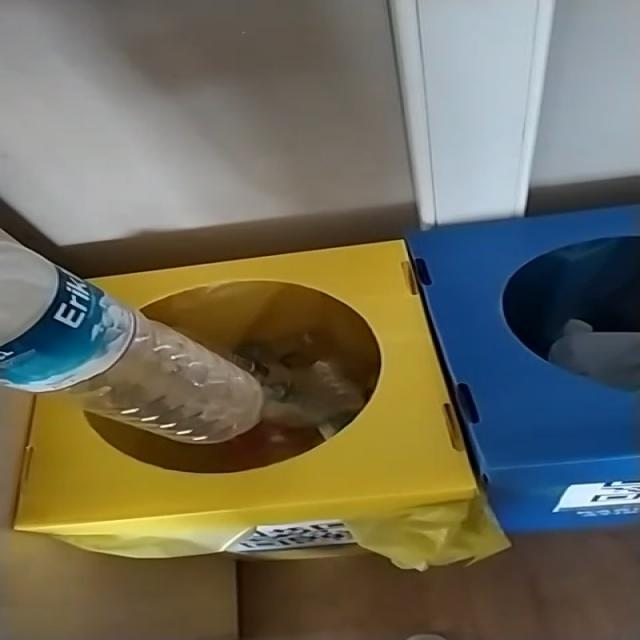Plastic: (1, 236, 264, 444)
